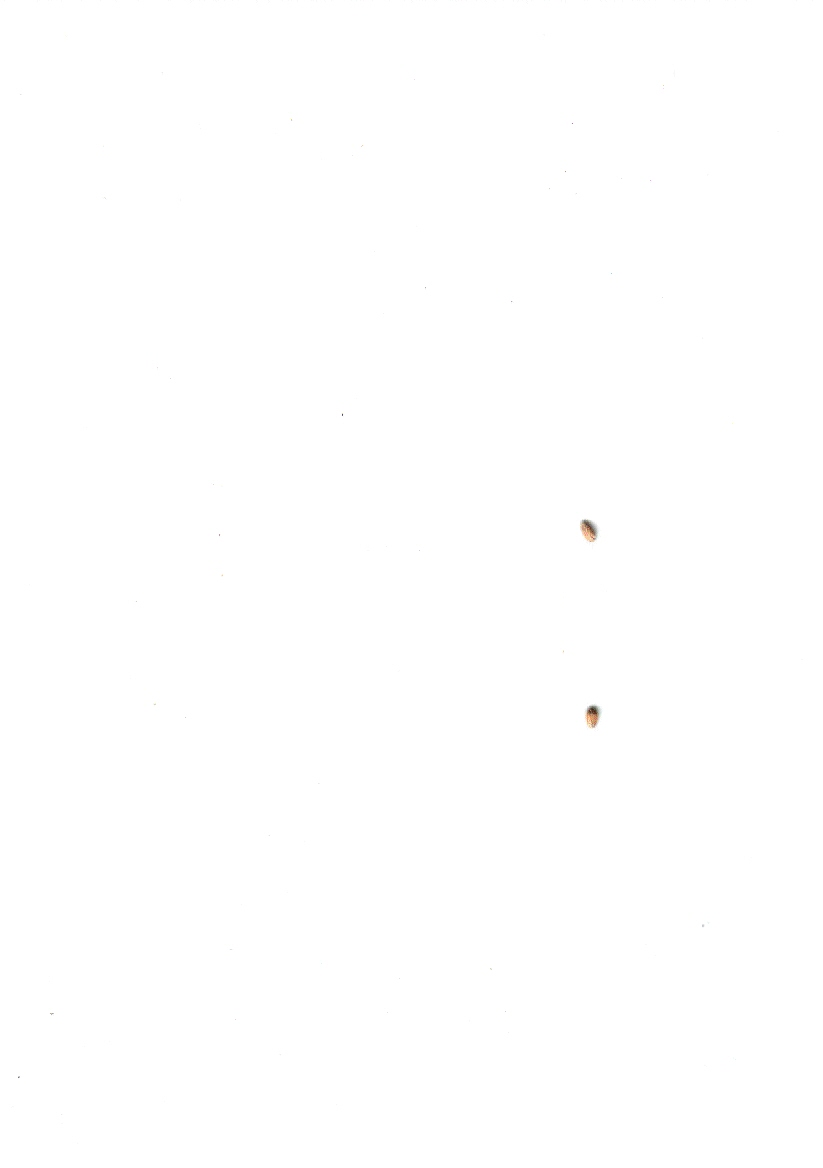grains: (566, 507, 611, 556), (572, 693, 611, 741)
